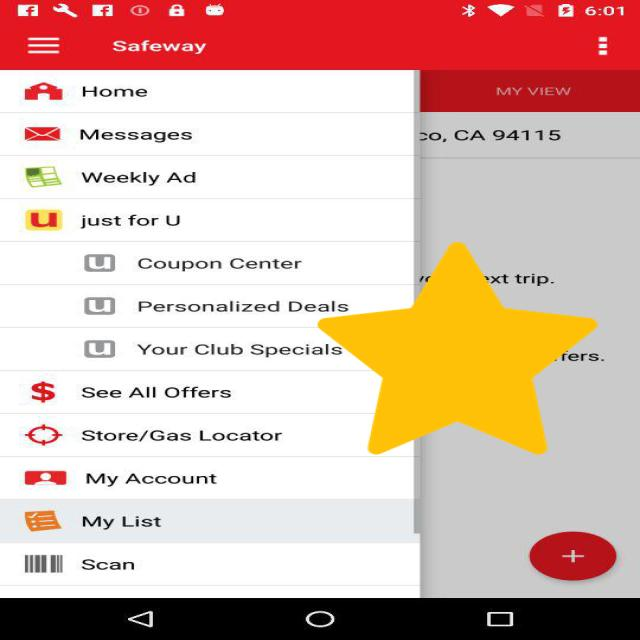forced continuity: (318, 242, 597, 455)
